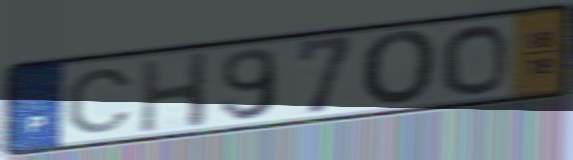7: (295, 33, 355, 118)
9: (218, 46, 281, 123)
C: (63, 66, 136, 136)
H: (137, 48, 214, 135)
O: (357, 28, 441, 109), (437, 22, 511, 97)
